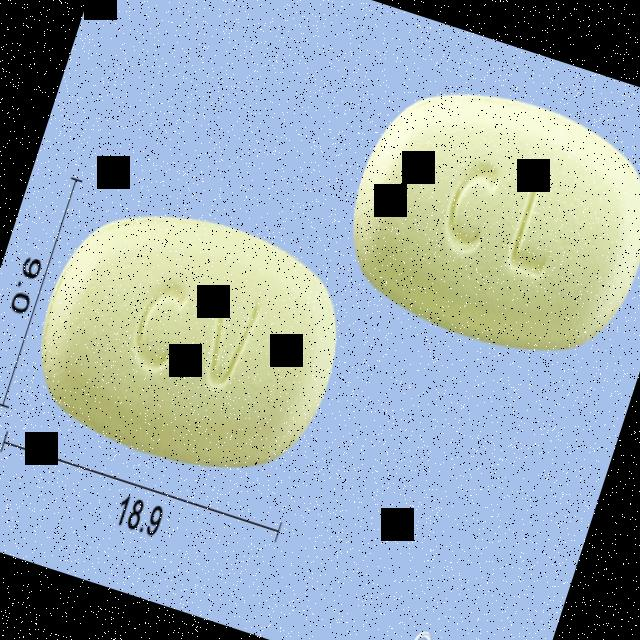Cllaricin: (13, 175, 371, 502), (324, 55, 640, 378)
